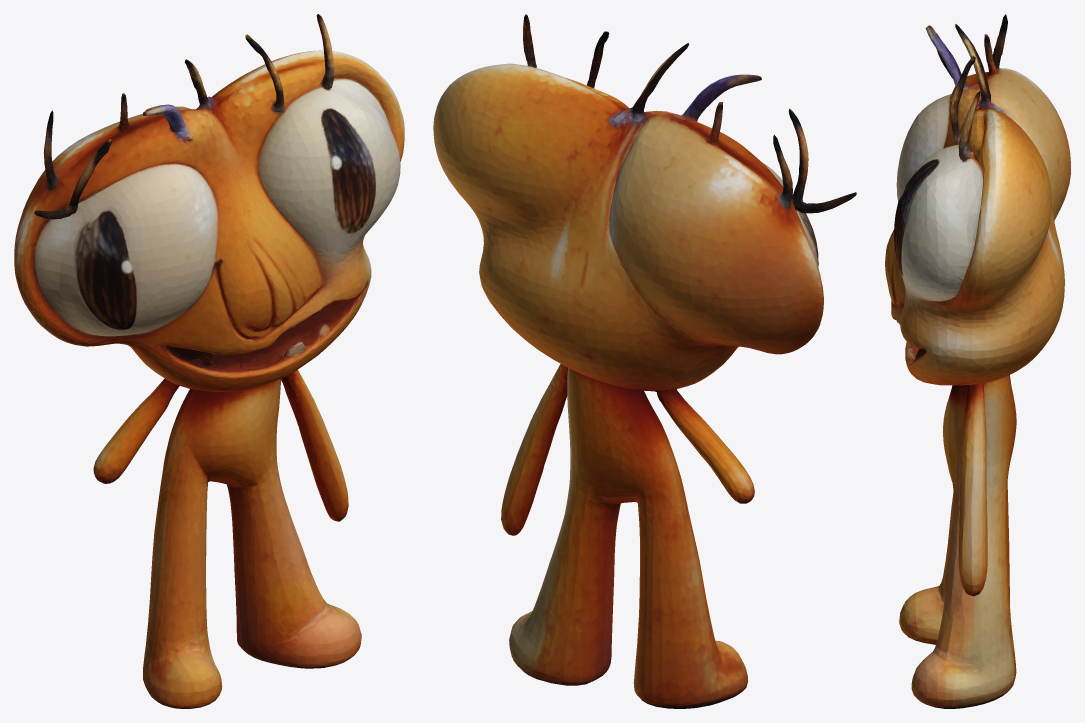
File: monstruo_trellis.glb
3 renders of one model, left to right at view 1: azimuth 30°, elevation 25°; view 2: azimuth 150°, elevation 25°; view 3: azimuth 270°, elevation 25°, orthographic. The views are drawn at different scales.
Visible parts, largest first — view 1: world; view 2: world; view 3: world.
Boxes of the visible parts, x1=… form: world: x1=14, y1=14, x2=404, y2=708; world: x1=433, y1=14, x2=856, y2=708; world: x1=885, y1=14, x2=1070, y2=708.
Size of the model in its own units: 0.6414 by 0.9996 by 0.273.
Materials: 1 (1 with a texture image).
